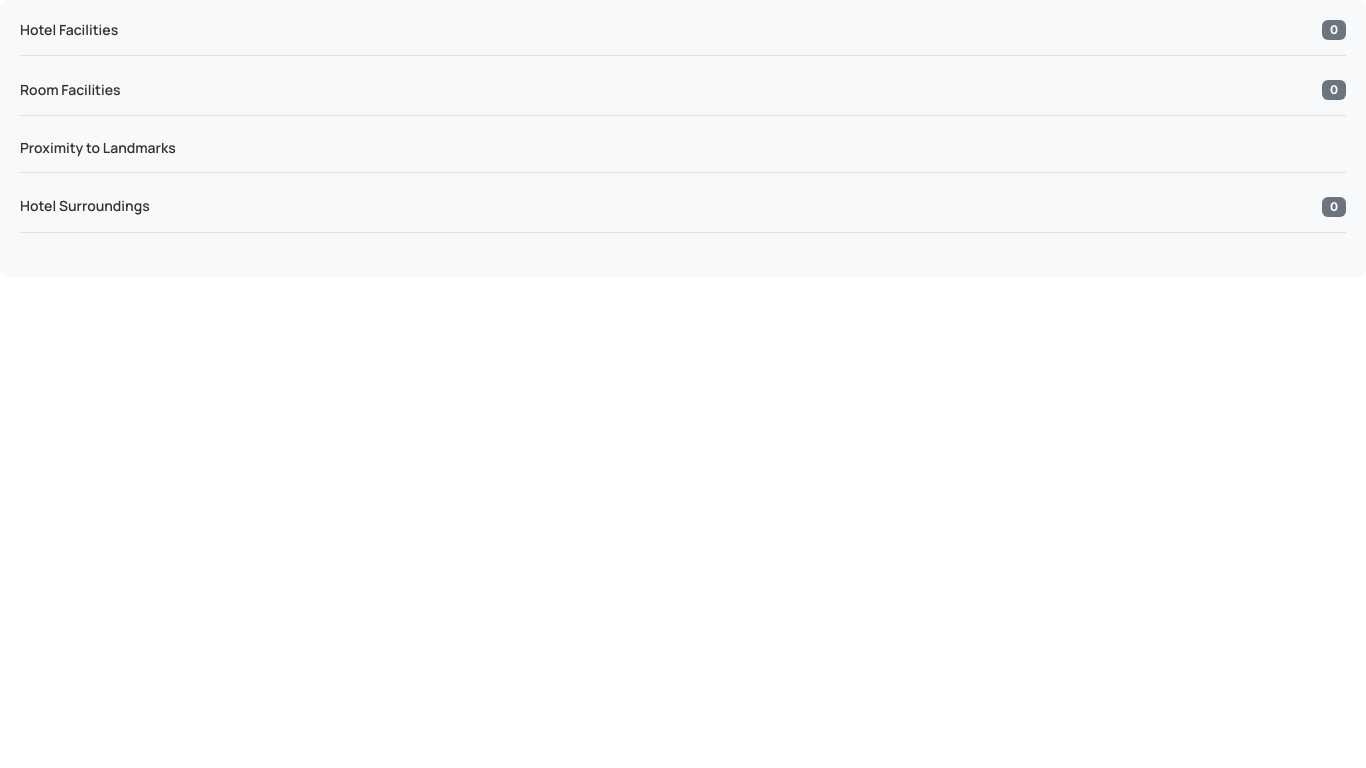
AdvancedFilters › Hotel Facilities Section › should expand hotel facilities when clicked
Click the heading "Hotel Facilities" at (69, 30), box [20,22,118,38]
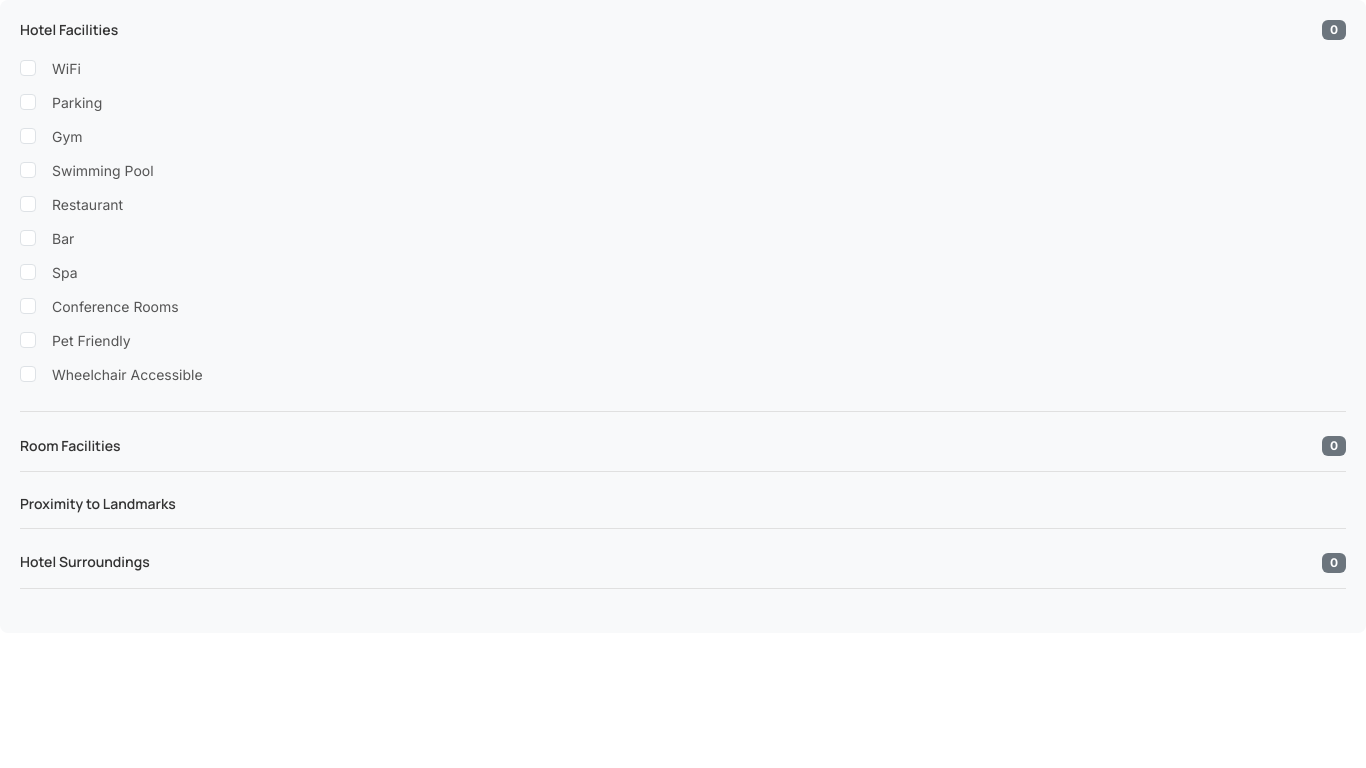
Expected: the checkbox labelled "WiFi" is shown, [20,60,36,76]
Expected: the checkbox labelled "Parking" is shown, [20,94,36,110]
Expected: the checkbox labelled "Gym" is shown, [20,128,36,144]
